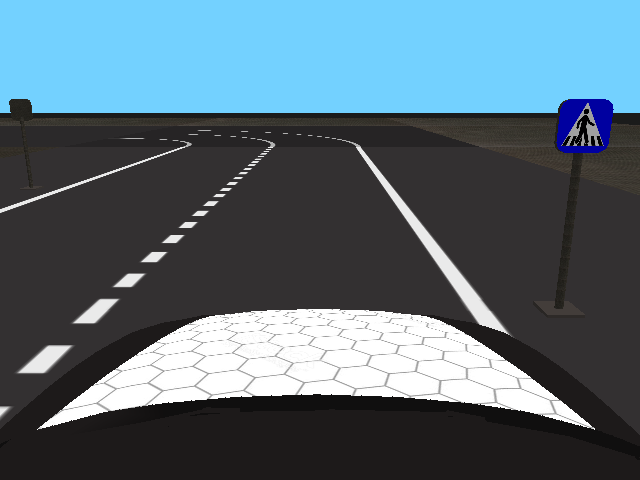pedestrian_cross: (555, 98, 614, 154)
